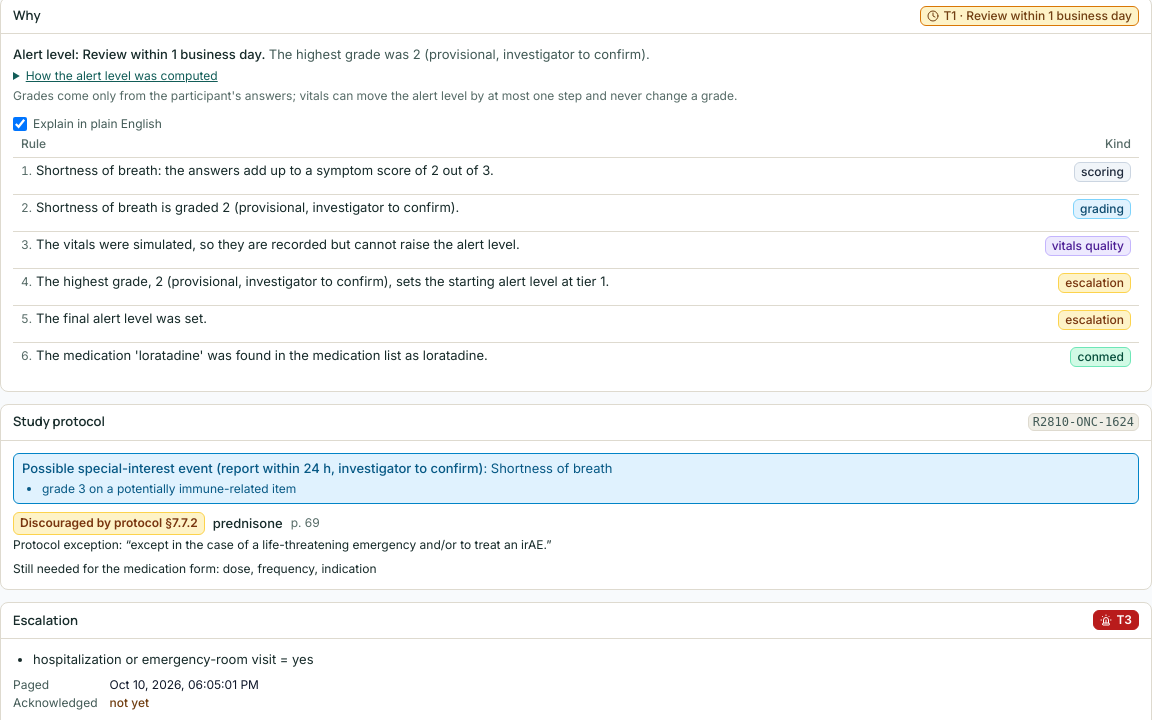
Test: CheckInDetail · plain language and protocol (R3) › Why panel: plain sentence first, rule id and inputs one click deeper
(page scrolled)
Click the button with aria-label "Inputs: verbatim = loratadine; matched_name = loratadine; co". click: (262, 355)
box: [13, 343, 1139, 379]
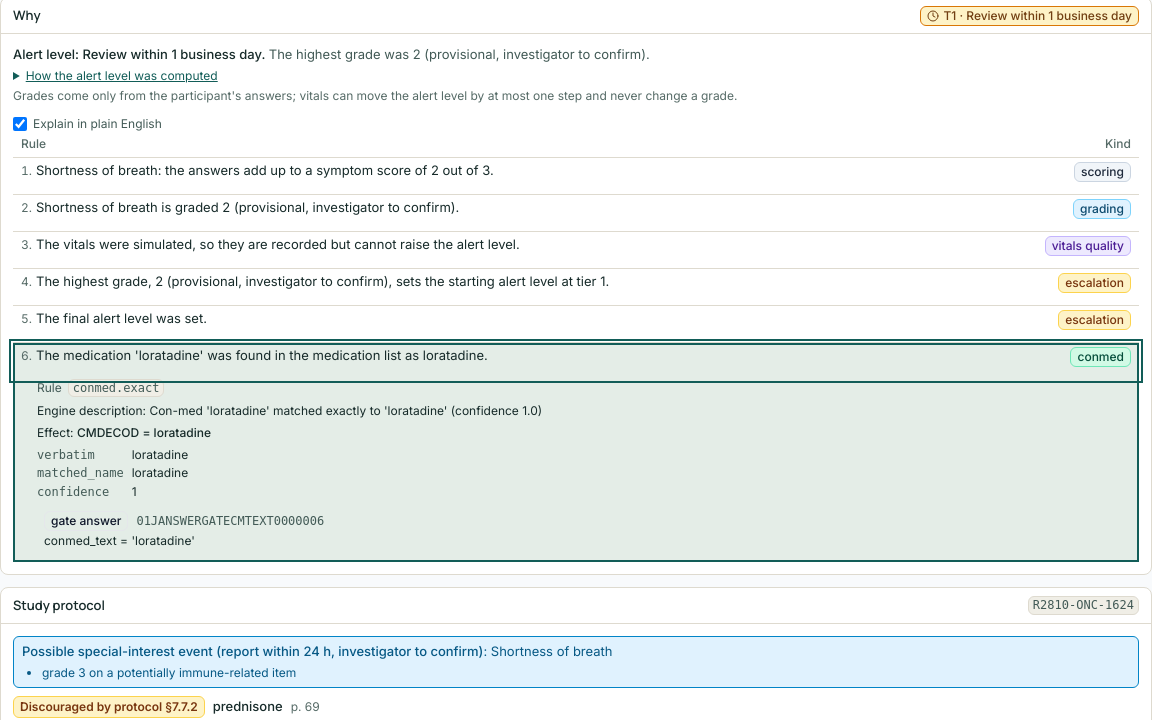
Expected: the element with test id "why-plain" shows "Alert level: Review within 1 business day", [13, 46, 650, 62]
Expected: the element with test id "rule-details" shows "conmed.exact", [73, 381, 159, 395]
Expected: the text "verbatim" is shown, [37, 448, 95, 462]
